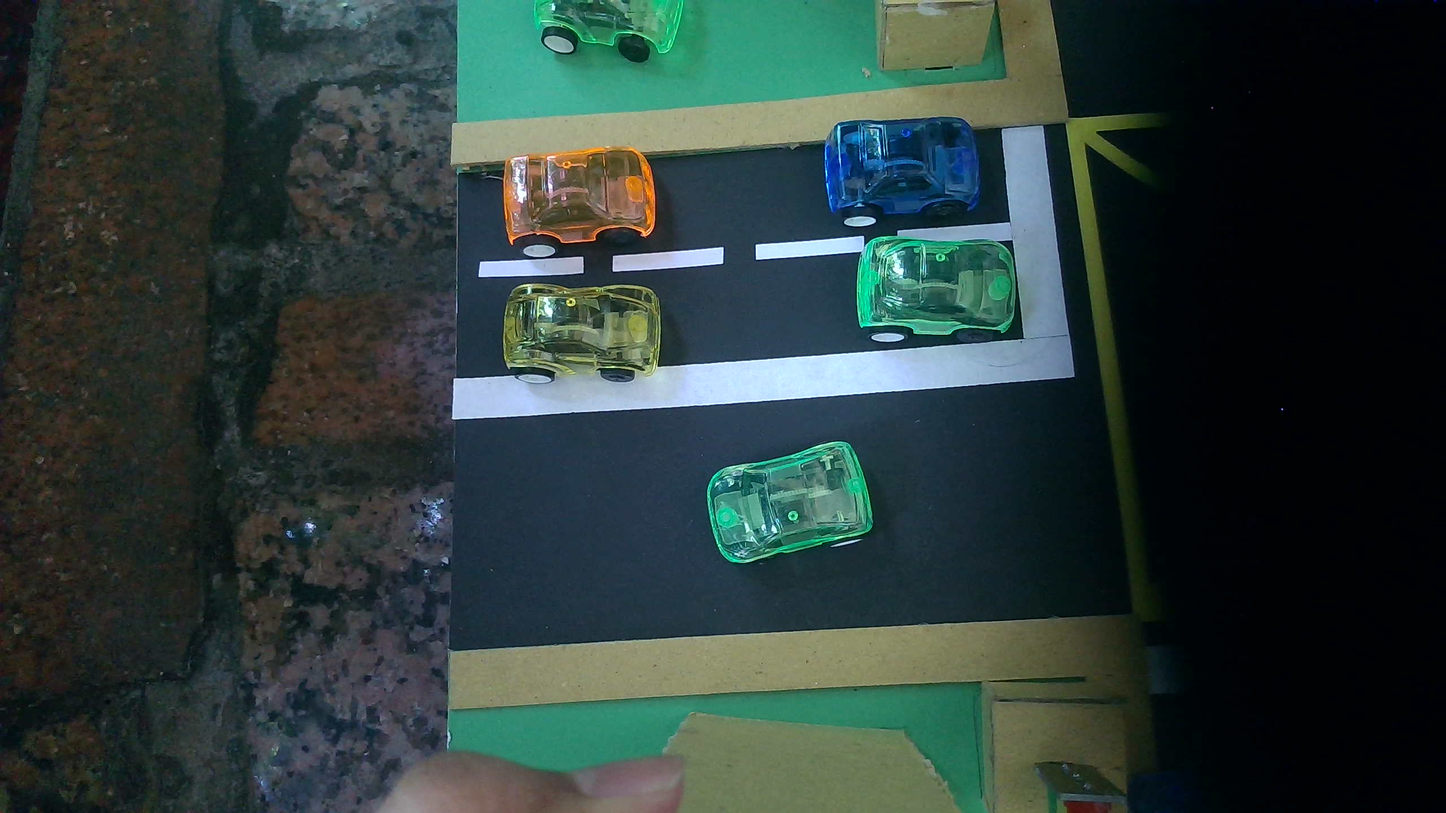Mobil biru: (824, 117, 980, 227)
Mobil hijau: (856, 236, 1017, 342)
Mobil kuning: (503, 284, 661, 383)
Mobil orange: (502, 147, 657, 257)
